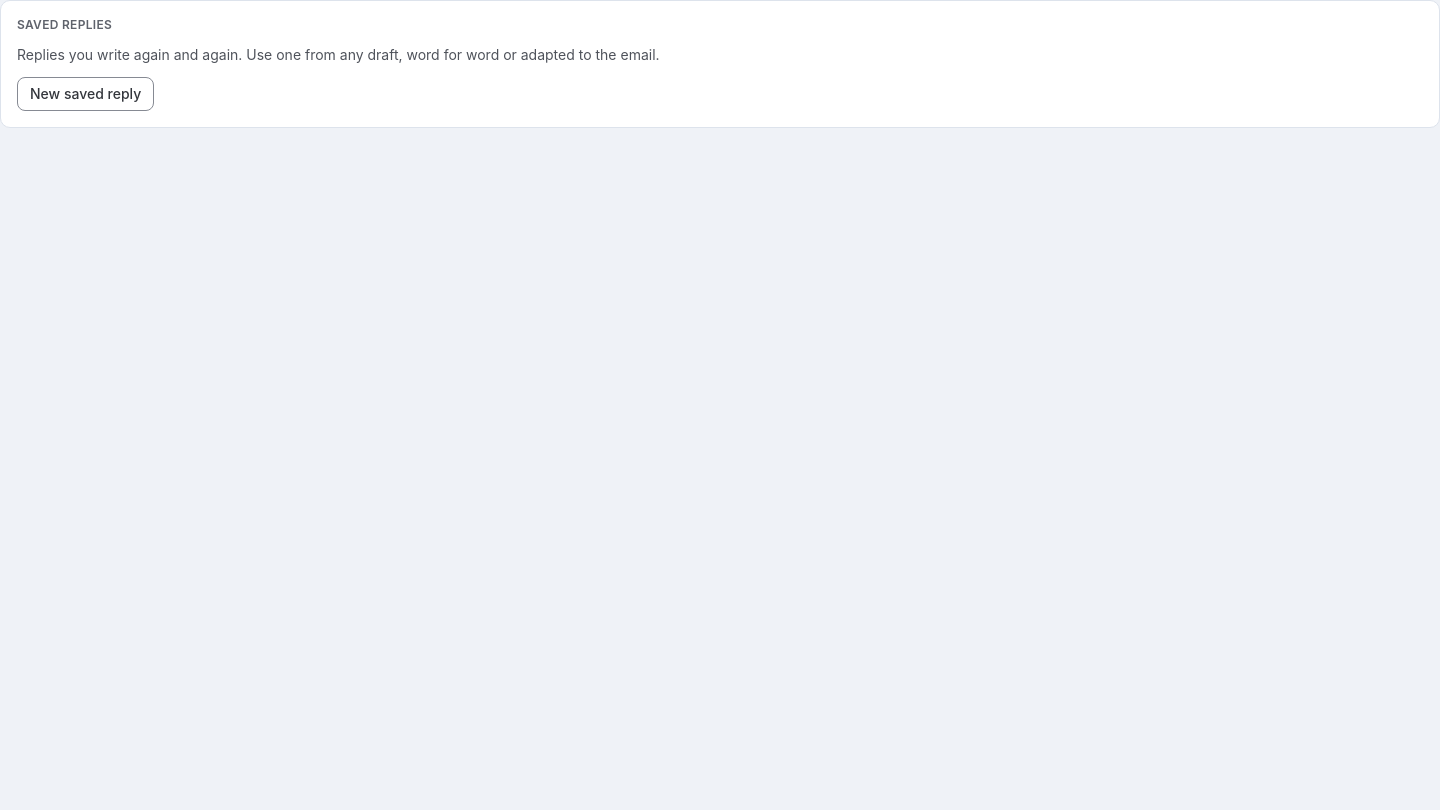
Test: a new template is saved with its trigger words, and the hint names the variables literally
Later steps or results of the test are not shown.
Click the button "New saved reply" at (86, 94), box x1=17 y1=77 x2=154 y2=111
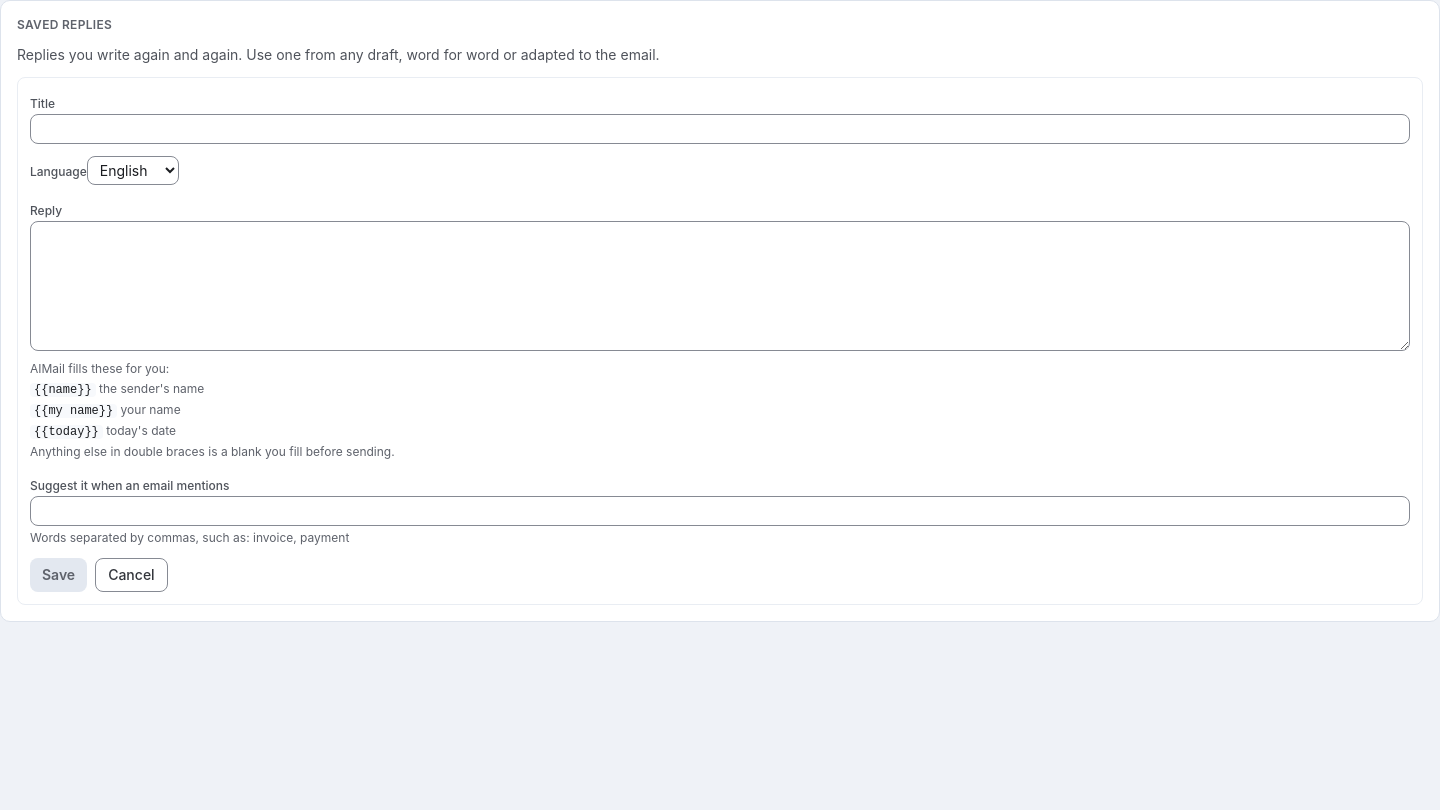
Select "Malay" in the dropdown labelled "Language" at (133, 170), box x1=87 y1=156 x2=179 y2=185
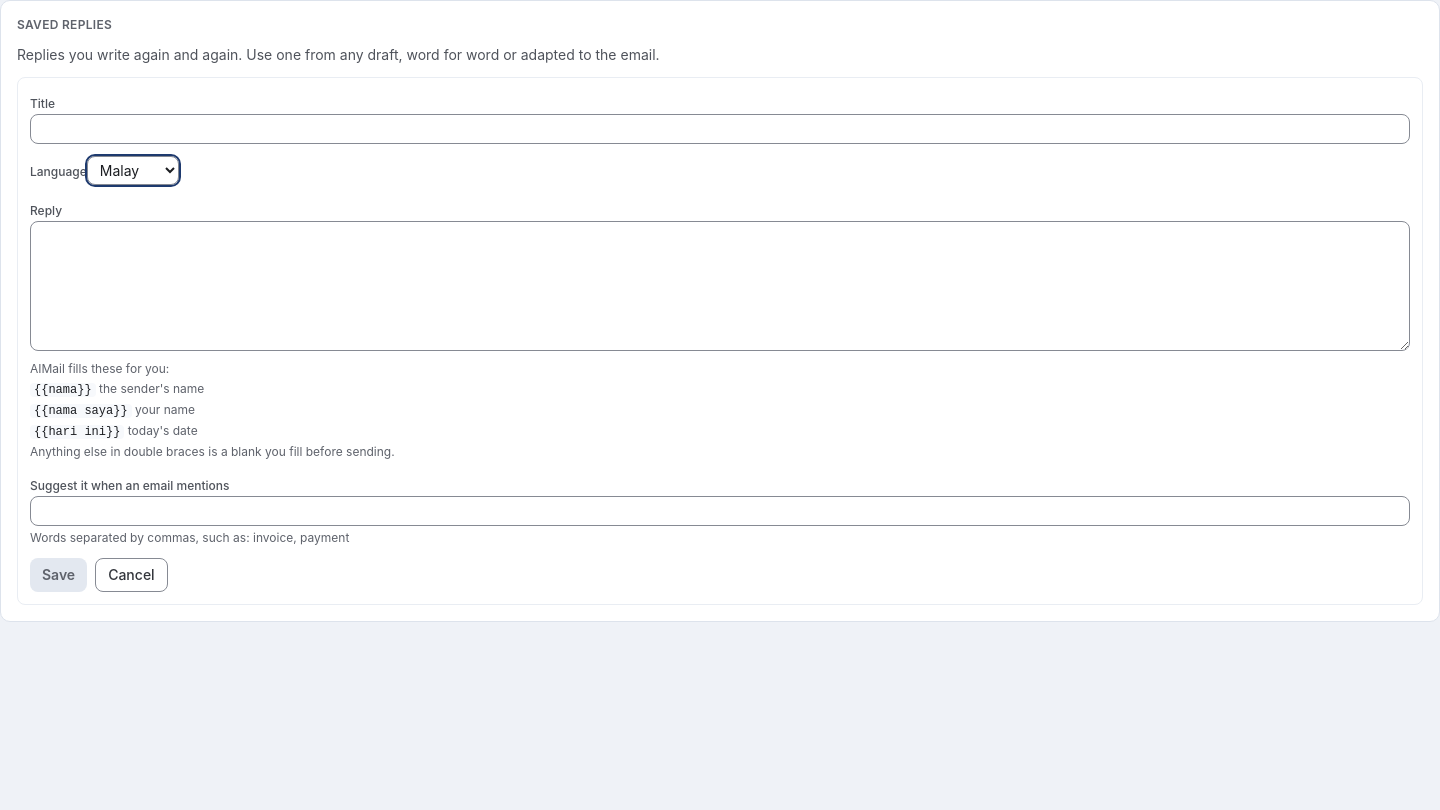
Now the text "{{nama}}" is shown, box x1=30 y1=383 x2=96 y2=397
